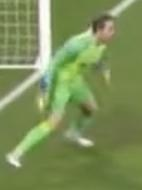goalkeeper: (5, 10, 130, 171)
